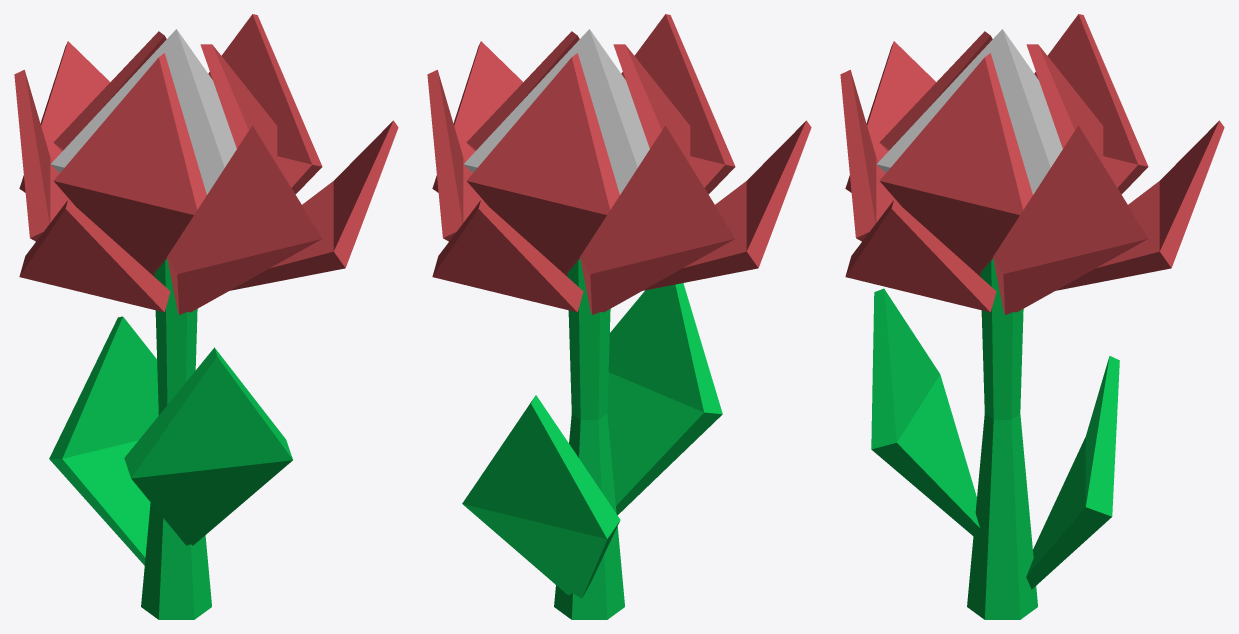
Rendered from Flower02.fbx.
The picture shows the model from 3 angles, left to right: view 1: azimuth 30°, elevation 25°; view 2: azimuth 150°, elevation 25°; view 3: azimuth 270°, elevation 25°; orthographic projection.
Visible parts, largest first — view 1: Cone; view 2: Cone; view 3: Cone.
Boxes of the visible parts, x1=… form: Cone: x1=14, y1=14, x2=398, y2=619; Cone: x1=427, y1=14, x2=811, y2=619; Cone: x1=840, y1=14, x2=1224, y2=619.
Size of the model in its own units: 32.41 by 53.77 by 32.38.
